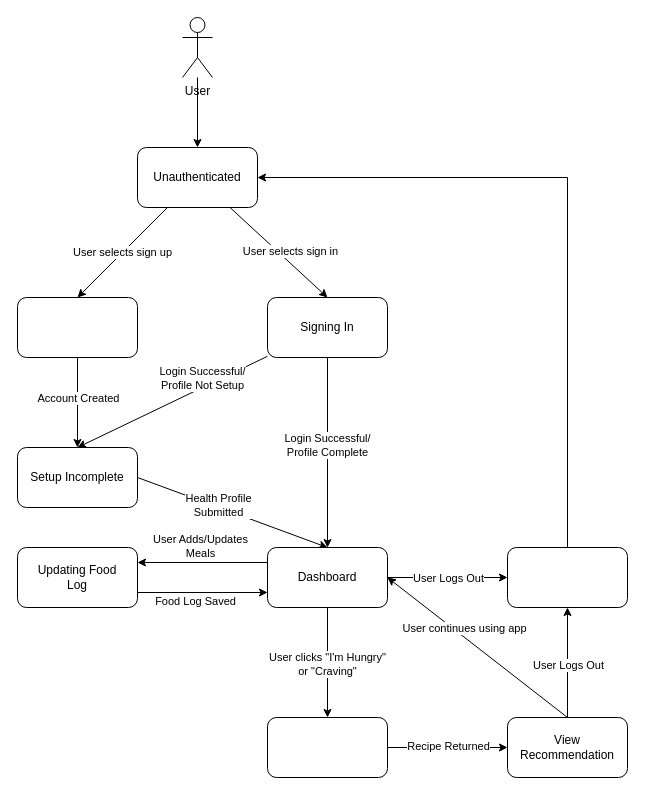
This 645x795 diagram has some shape labels left out. Each missing label, with the box of its shape:
Logged Out: (506, 546, 628, 608)
Request Recommendation: (266, 716, 388, 778)
Signing up: (16, 296, 138, 358)
